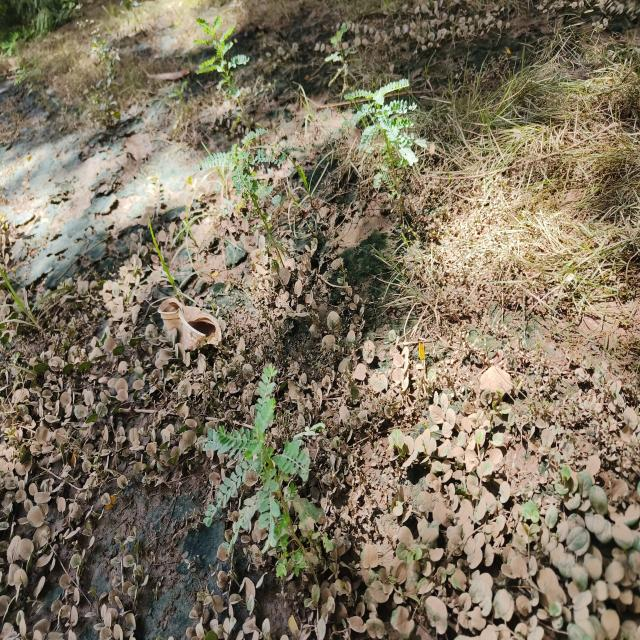weed: (187, 371, 337, 553), (344, 73, 427, 183), (203, 127, 281, 227)
